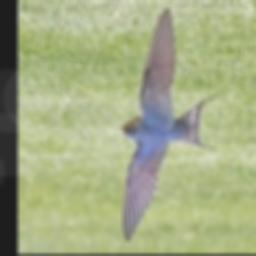Swallow: (118, 7, 216, 242)
